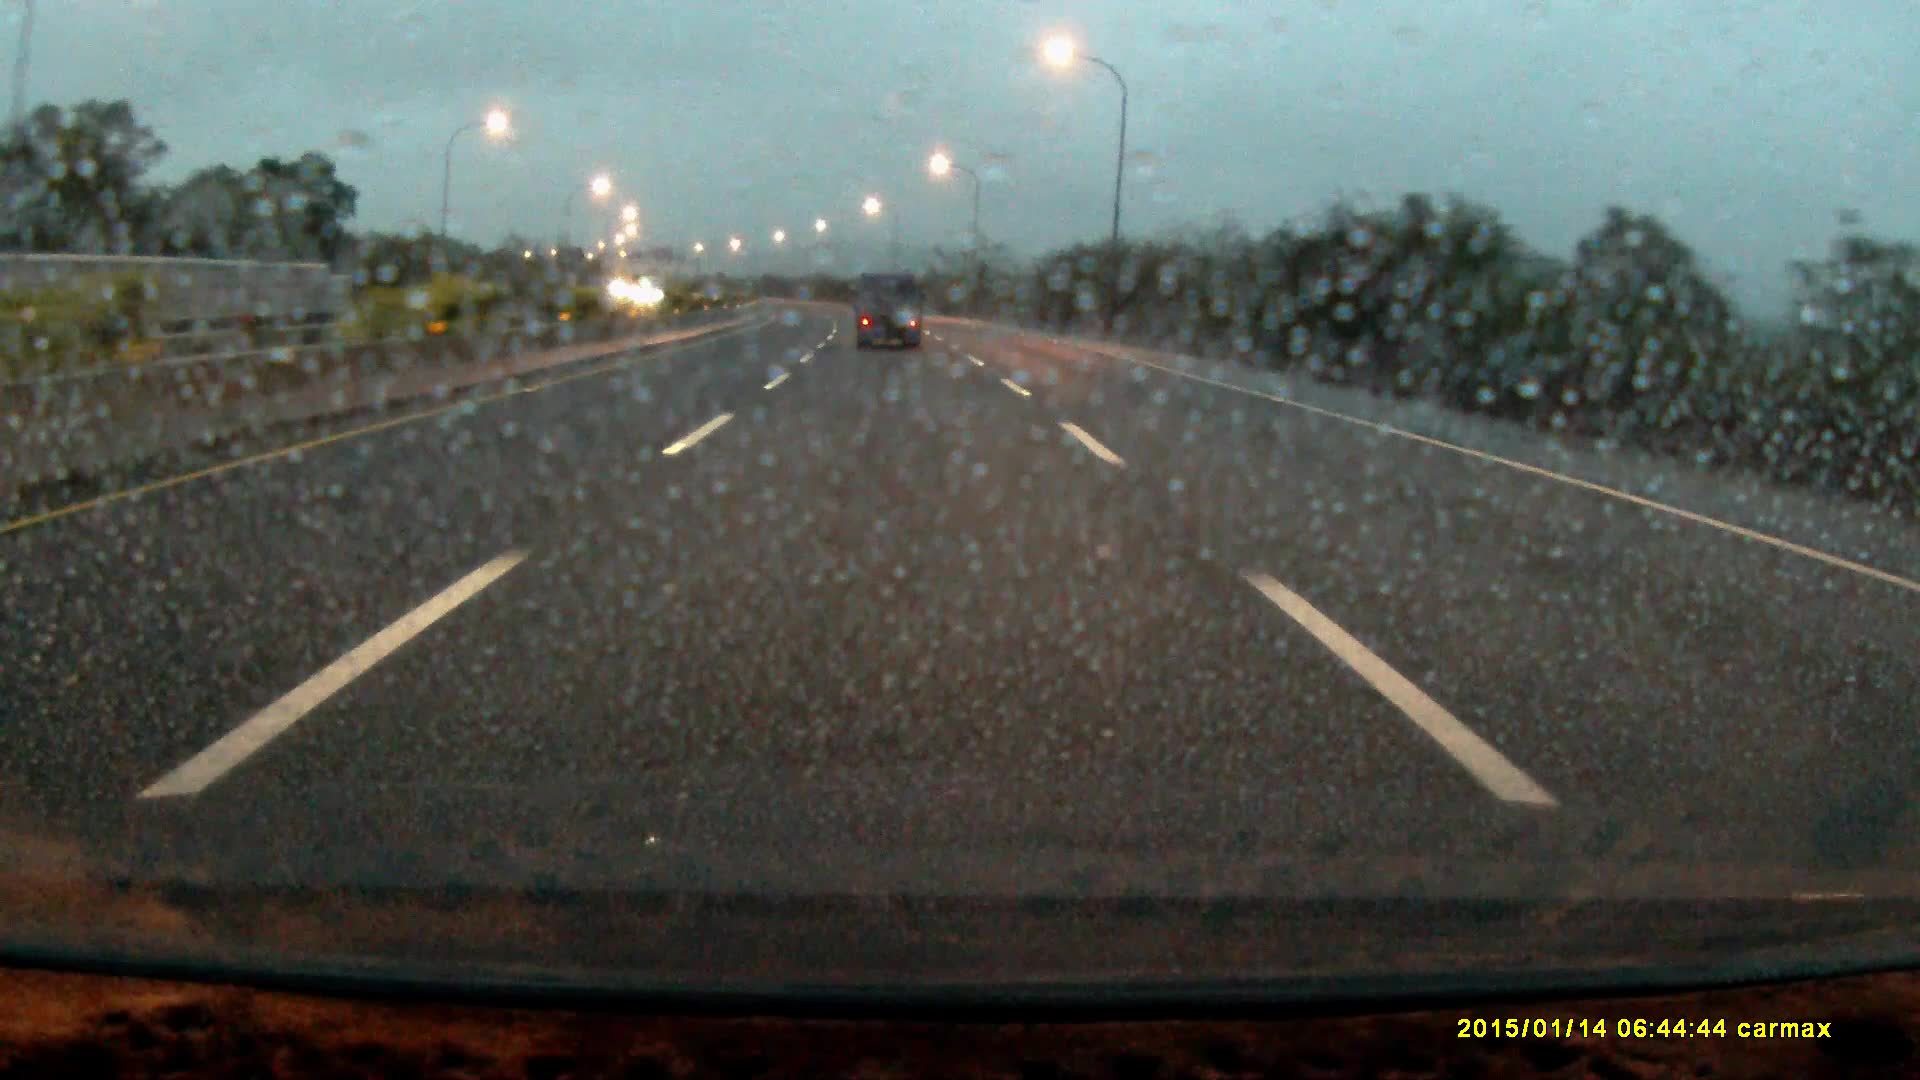vehicle: (853, 270, 923, 352)
